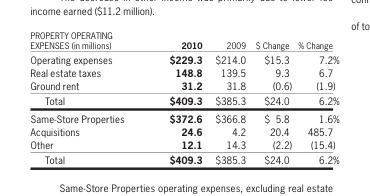table: (29, 29, 338, 165)
table column: (29, 29, 146, 165), (146, 29, 208, 165), (249, 29, 294, 165), (294, 29, 338, 165), (208, 29, 249, 165)
table column header: (29, 29, 338, 51)
table row: (29, 29, 338, 51), (29, 92, 338, 109), (29, 109, 338, 124), (29, 51, 338, 65), (29, 78, 338, 92), (29, 137, 338, 151), (29, 151, 338, 165), (29, 65, 338, 78), (29, 124, 338, 137)
